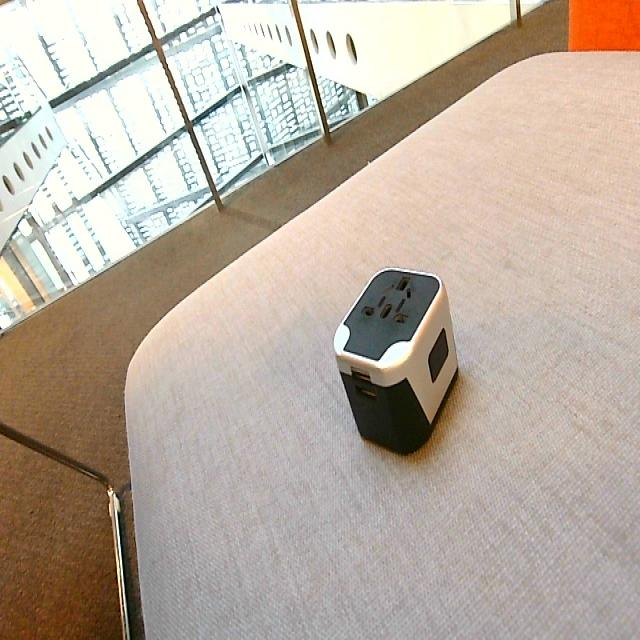adapter: (332, 265, 459, 455)
